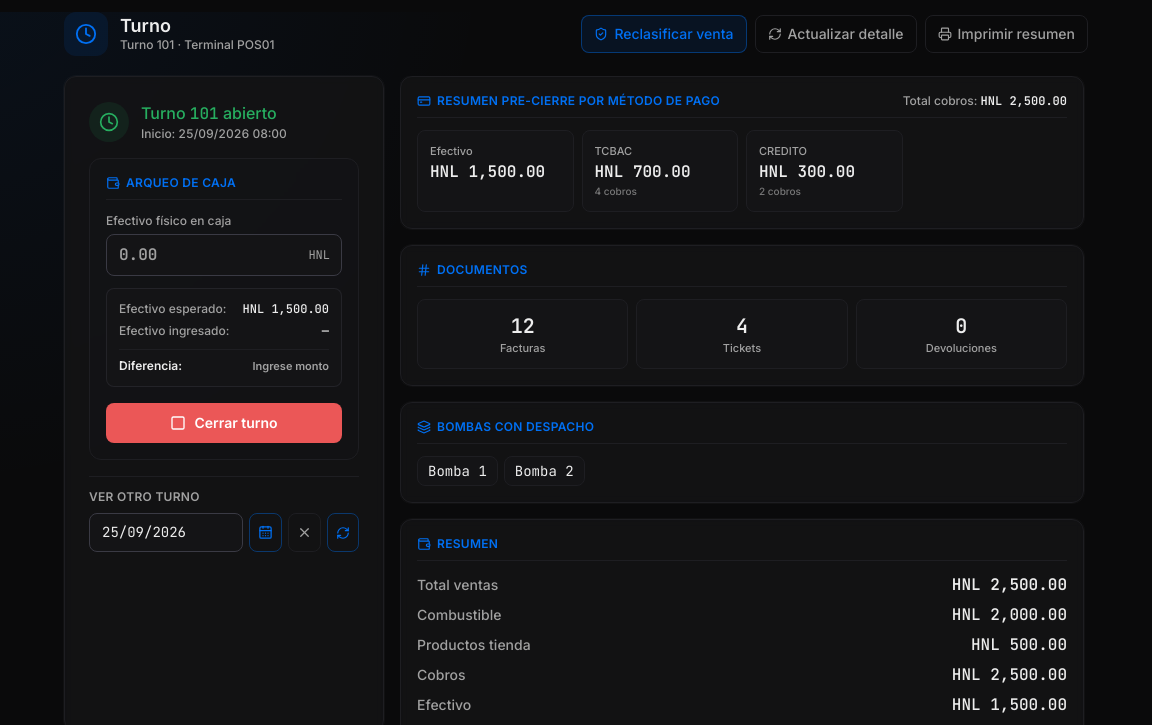
Test: ShiftScreen Pre-cierre y Arqueo Interactivo › calcula la diferencia en tiempo real con badges (Cuadrado, Sobrante, Faltante)
Check: the text "Arqueo de Caja" is shown, box [106,175,236,191]
Check: the text "Ingrese monto" is shown, box [253,358,329,374]
Type "1500" into the number field with placeholder "0.00".
click(224, 255); type("1500")  # box [106,234,342,276]
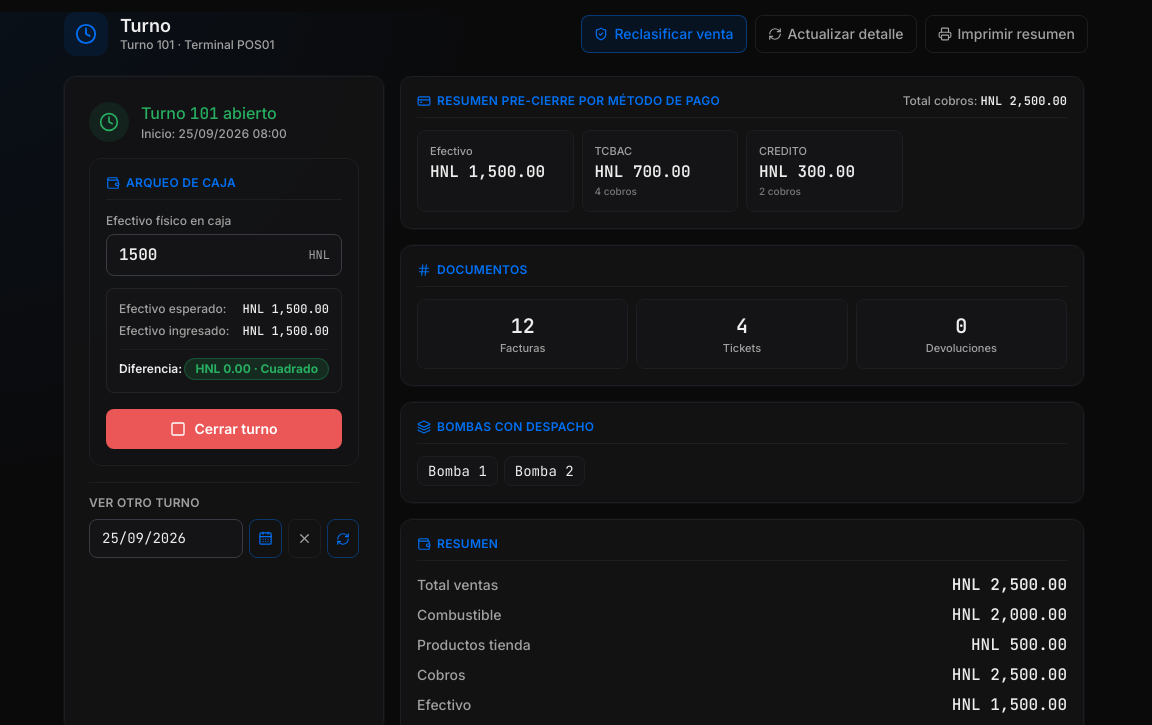
Check: the text "HNL 0.00 · Cuadrado" is shown, box [184,358,329,380]
Sobrante (ingresa 1600)
Replace the text in the number field with placeholder "0.00" with "1600" at (224, 255), box [106,234,342,276]
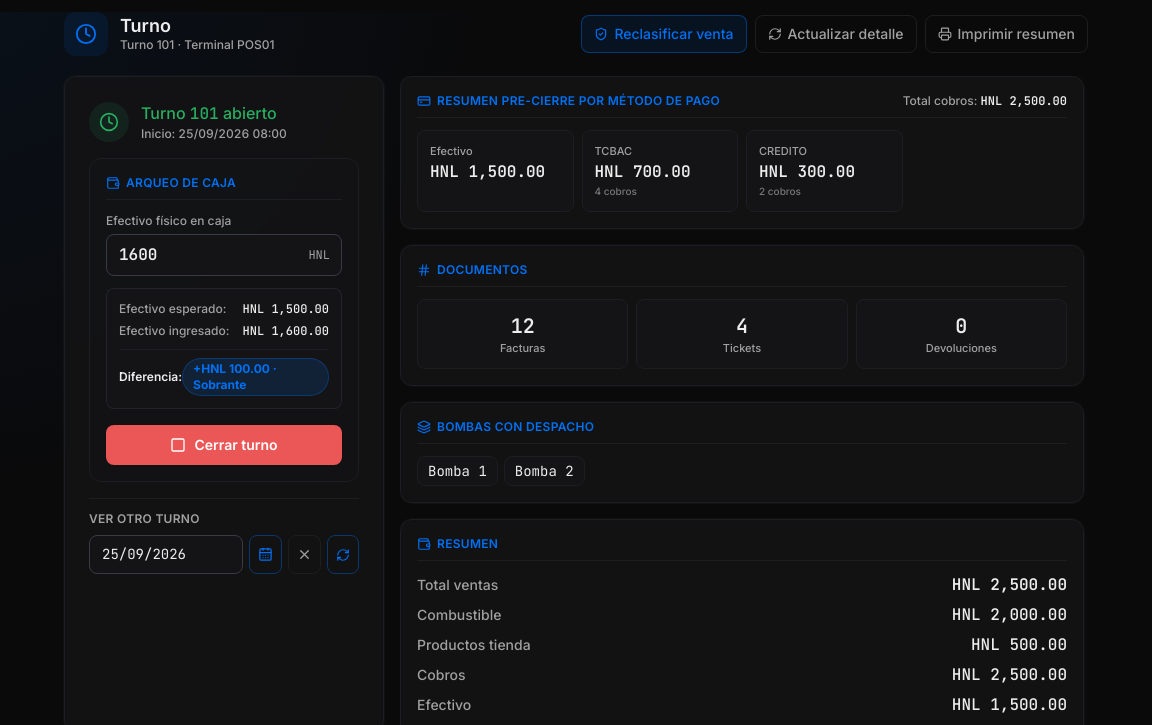
Check: the text "+HNL 100.00 · Sobrante" is shown, box [182,358,329,396]
Faltante (ingresa 1400)
Replace the text in the number field with placeholder "0.00" with "1400" at (224, 255), box [106,234,342,276]
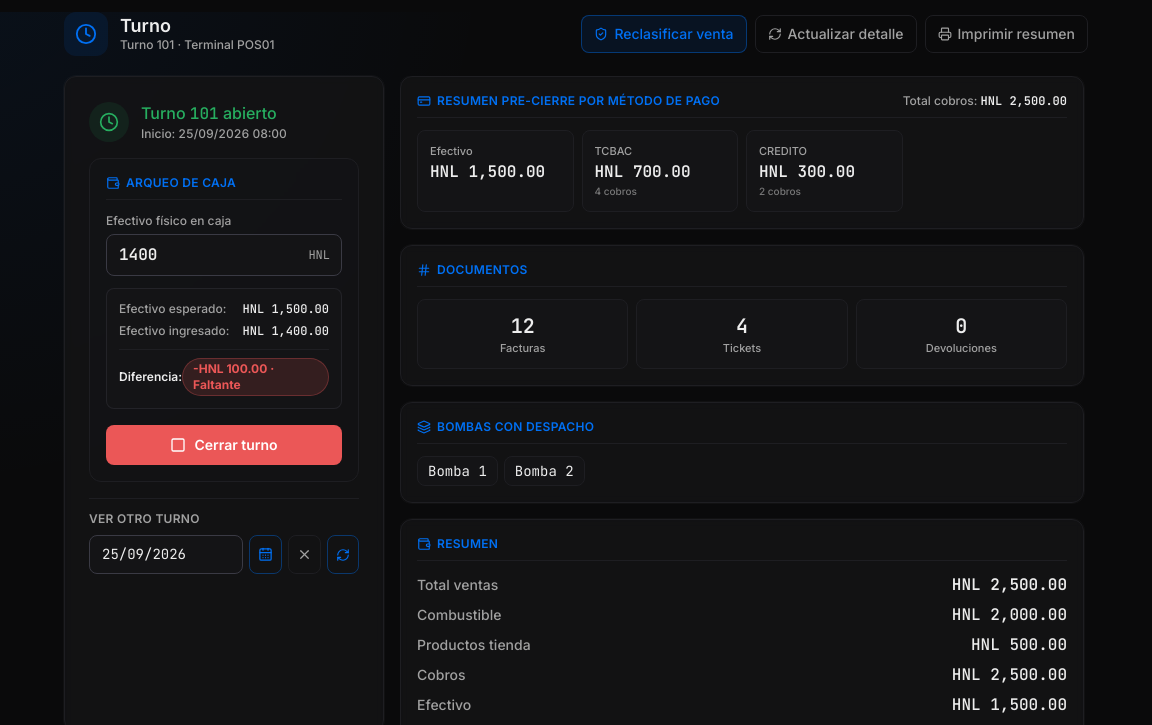
Check: the text "-HNL 100.00 · Faltante" is shown, box [182,358,329,396]
